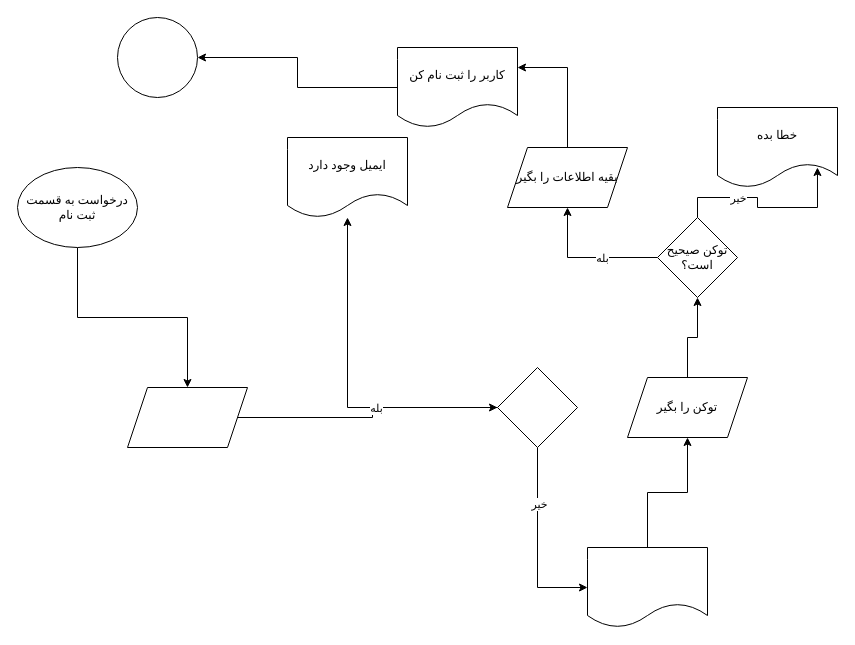
The diagram is 855 pixels wide and 645 high, and some of its shapes have lost their labels. Here are the shapes that lost their labels. From the top down, the box of each, then its label:
(116, 16, 198, 98): تمام
(126, 386, 248, 448): اطلاعات بگیر ایمیل
(496, 366, 578, 448): ایمیل وجود دارد؟
(586, 546, 708, 628): یک آبجکت بساز و توکن ارسال کن به ایمیل
